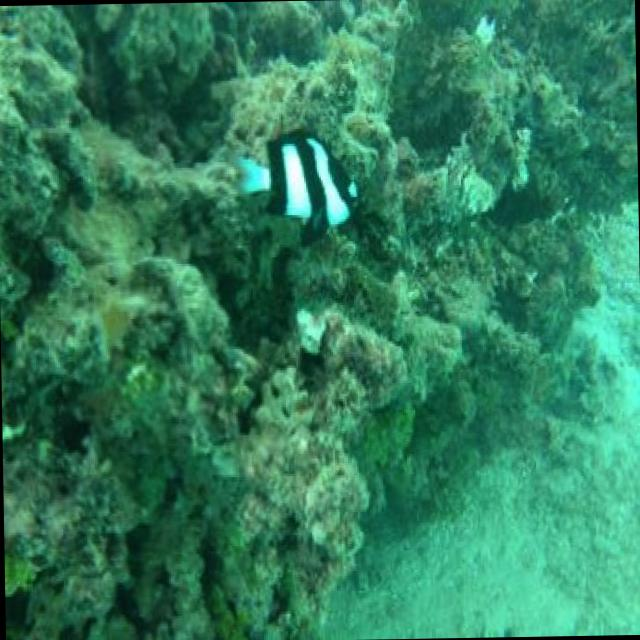Three_striped DasmselFish: (235, 128, 360, 229)
